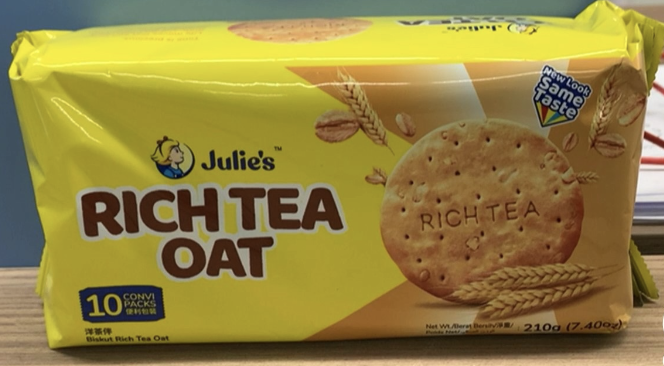cookies_200g-299g: (63, 71, 621, 338)
